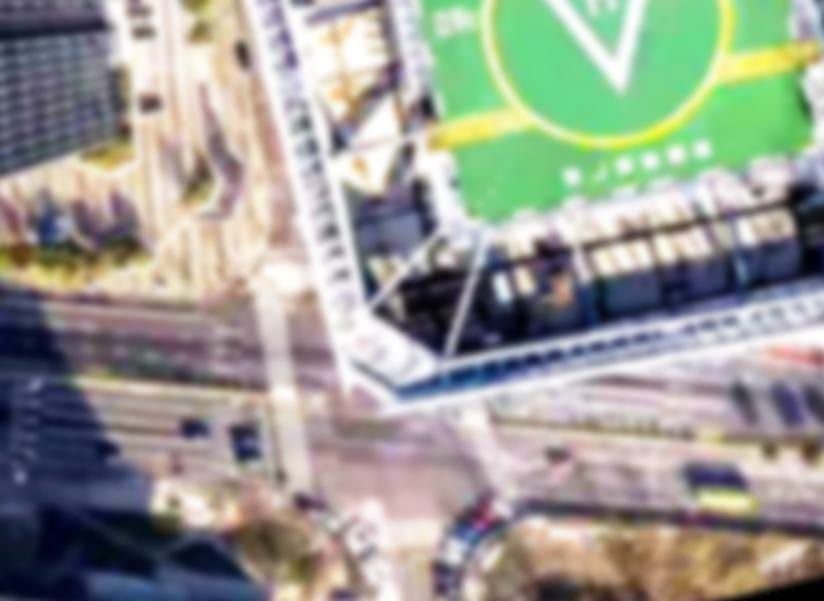Apron: (468, 1, 740, 160)
